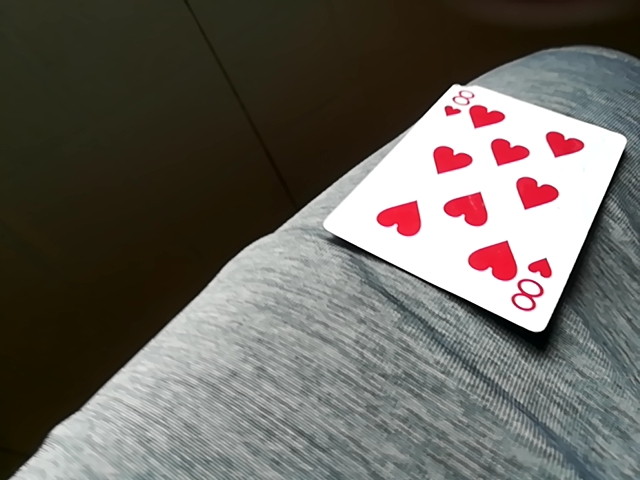hx 8: (318, 82, 628, 330)
